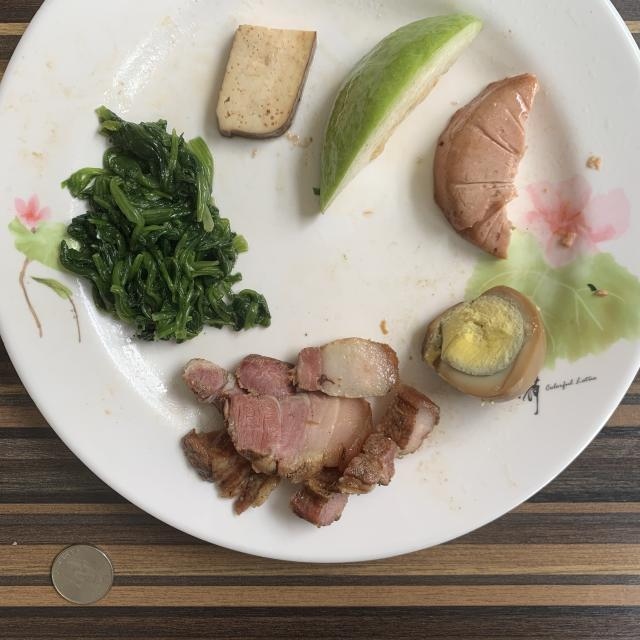Spam: (434, 74, 539, 259)
coin: (51, 545, 114, 604)
firm tofu: (216, 25, 316, 139)
grilled pork: (182, 339, 440, 526)
guava -sliced-: (320, 14, 482, 212)
mustard greens: (60, 106, 270, 342)
soy egg: (422, 285, 546, 402)
